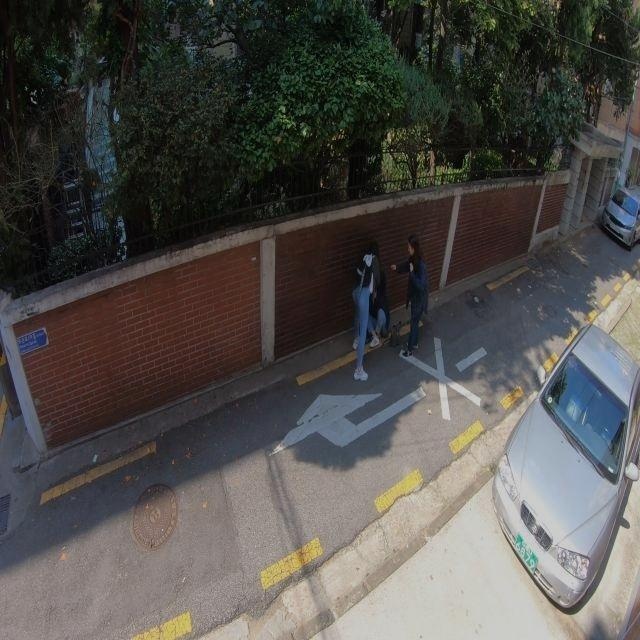fight: (345, 237, 430, 380)
